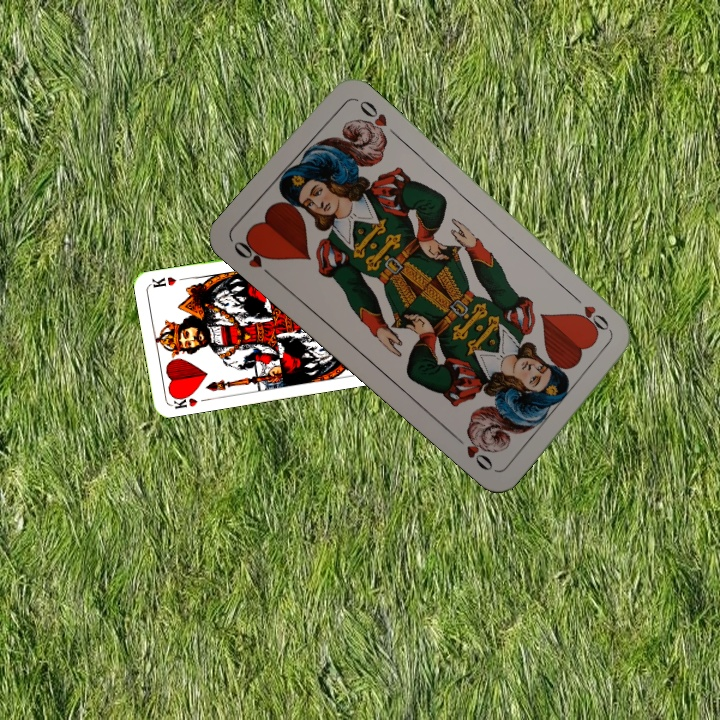HK: (168, 389, 200, 411)
HO: (229, 234, 277, 282), (568, 290, 615, 336)
